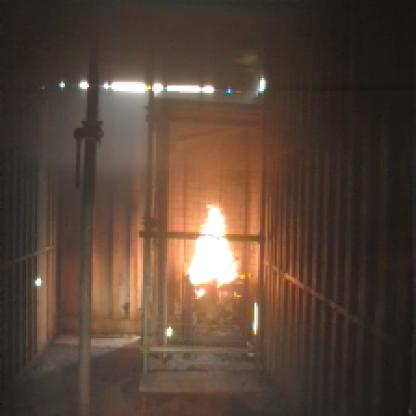Fire: (176, 197, 238, 299)
